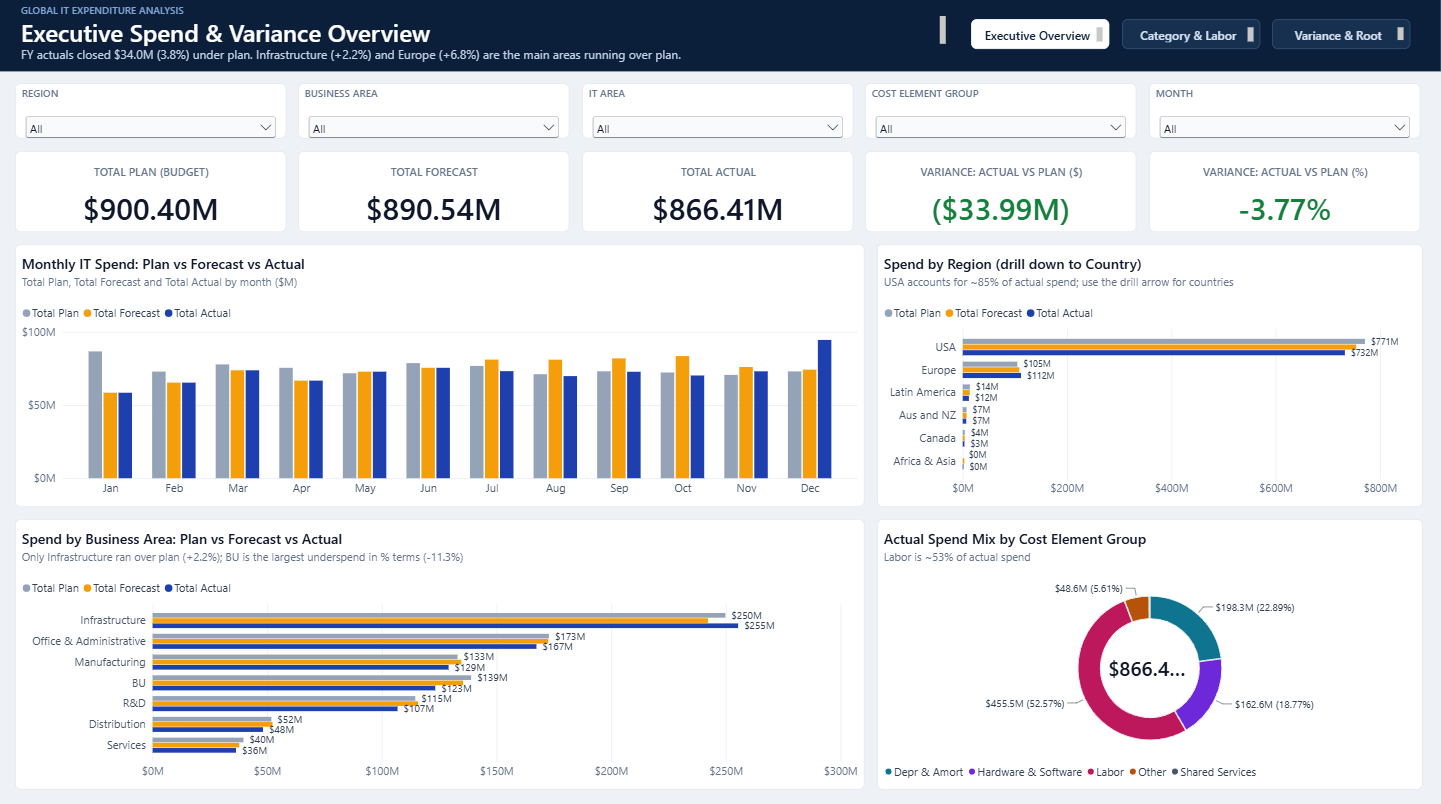

This screenshot's page, from the dashboard's own definition file:
{"tool":"powerbi","page":{"name":"Executive Overview","canvas":[1920,1080],"ordinal":0},"visuals":[{"type":"textbox","box":[0,0,1920,100],"z":0},{"type":"textbox","box":[32,8,700,22],"z":1000},{"type":"textbox","box":[32,26,1230,40],"z":2000},{"type":"textbox","box":[32,66,1240,28],"z":3000},{"type":"textbox","box":[1296,30,184,40],"z":4000},{"type":"actionButton","box":[1296,30,184,40],"z":5000},{"type":"textbox","box":[1496,30,184,40],"z":6000},{"type":"actionButton","box":[1496,30,184,40],"z":7000},{"type":"textbox","box":[1696,30,184,40],"z":8000},{"type":"actionButton","box":[1696,30,184,40],"z":9000},{"type":"slicer","title":"REGION","fields":{"Values":["IT_Expenditure.Region"]},"box":[24,116,361,74],"z":10000},{"type":"slicer","title":"BUSINESS AREA","fields":{"Values":["IT_Expenditure.Business Area"]},"box":[401,116,361,74],"z":11000},{"type":"slicer","title":"IT AREA","fields":{"Values":["IT_Expenditure.IT Area"]},"box":[778,116,361,74],"z":12000},{"type":"slicer","title":"COST ELEMENT GROUP","fields":{"Values":["IT_Expenditure.Cost Element Group"]},"box":[1155,116,361,74],"z":13000},{"type":"slicer","title":"MONTH","fields":{"Values":["IT_Expenditure.Month"]},"box":[1532,116,361,74],"z":14000},{"type":"card","title":"TOTAL PLAN (BUDGET)","fields":{"Values":["Analysis.Total Plan"]},"box":[24,206,361,108],"z":15000},{"type":"card","title":"TOTAL FORECAST","fields":{"Values":["Analysis.Total Forecast"]},"box":[401,206,361,108],"z":16000},{"type":"card","title":"TOTAL ACTUAL","fields":{"Values":["Analysis.Total Actual"]},"box":[778,206,361,108],"z":17000},{"type":"card","title":"VARIANCE: ACTUAL VS PLAN ($)","fields":{"Values":["Analysis.Var Actual vs Plan ($)"]},"box":[1155,206,361,108],"z":18000},{"type":"card","title":"VARIANCE: ACTUAL VS PLAN (%)","fields":{"Values":["Analysis.Var Actual vs Plan (%)"]},"box":[1532,206,361,108],"z":19000},{"type":"clusteredColumnChart","title":"Monthly IT Spend: Plan vs Forecast vs Actual","fields":{"Category":["IT_Expenditure.Month"],"Y":["Analysis.Total Plan","Analysis.Total Forecast","Analysis.Total Actual"]},"box":[24,330,1130,350],"z":20000},{"type":"clusteredBarChart","title":"Spend by Region (drill down to Country)","fields":{"Category":["IT_Expenditure.Region","IT_Expenditure.Country"],"Y":["Analysis.Total Plan","Analysis.Total Forecast","Analysis.Total Actual"]},"box":[1170,330,726,350],"z":21000},{"type":"clusteredBarChart","title":"Spend by Business Area: Plan vs Forecast vs Actual","fields":{"Category":["IT_Expenditure.Business Area"],"Y":["Analysis.Total Plan","Analysis.Total Forecast","Analysis.Total Actual"]},"box":[24,696,1130,360],"z":22000},{"type":"donutChart","title":"Actual Spend Mix by Cost Element Group","fields":{"Category":["IT_Expenditure.Cost Element Group"],"Y":["Analysis.Total Actual"]},"box":[1170,696,726,360],"z":23000}]}

Visuals, with their boxes in screenshot pixels (x1, y1, x2, y2), scaled from the page's 1920x1080 canvas onto the 1441x804 screenshot:
textbox: <bbox>0, 0, 1440, 74</bbox>
textbox: <bbox>24, 6, 549, 22</bbox>
textbox: <bbox>24, 19, 947, 49</bbox>
textbox: <bbox>24, 49, 955, 70</bbox>
textbox: <bbox>973, 22, 1111, 52</bbox>
actionButton: <bbox>973, 22, 1111, 52</bbox>
textbox: <bbox>1123, 22, 1261, 52</bbox>
actionButton: <bbox>1123, 22, 1261, 52</bbox>
textbox: <bbox>1273, 22, 1411, 52</bbox>
actionButton: <bbox>1273, 22, 1411, 52</bbox>
"REGION" slicer: <bbox>18, 86, 289, 141</bbox>
"BUSINESS AREA" slicer: <bbox>301, 86, 572, 141</bbox>
"IT AREA" slicer: <bbox>584, 86, 855, 141</bbox>
"COST ELEMENT GROUP" slicer: <bbox>867, 86, 1138, 141</bbox>
"MONTH" slicer: <bbox>1150, 86, 1421, 141</bbox>
"TOTAL PLAN (BUDGET)" card: <bbox>18, 153, 289, 234</bbox>
"TOTAL FORECAST" card: <bbox>301, 153, 572, 234</bbox>
"TOTAL ACTUAL" card: <bbox>584, 153, 855, 234</bbox>
"VARIANCE: ACTUAL VS PLAN ($)" card: <bbox>867, 153, 1138, 234</bbox>
"VARIANCE: ACTUAL VS PLAN (%)" card: <bbox>1150, 153, 1421, 234</bbox>
"Monthly IT Spend: Plan vs Forecast vs Actual" clusteredColumnChart: <bbox>18, 246, 866, 506</bbox>
"Spend by Region (drill down to Country)" clusteredBarChart: <bbox>878, 246, 1423, 506</bbox>
"Spend by Business Area: Plan vs Forecast vs Actual" clusteredBarChart: <bbox>18, 518, 866, 786</bbox>
"Actual Spend Mix by Cost Element Group" donutChart: <bbox>878, 518, 1423, 786</bbox>
